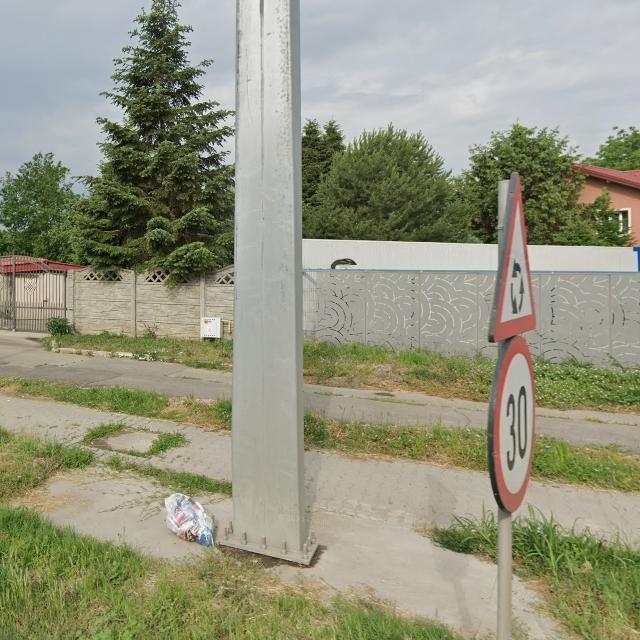forb_speed_over_30: (490, 343, 538, 516)
